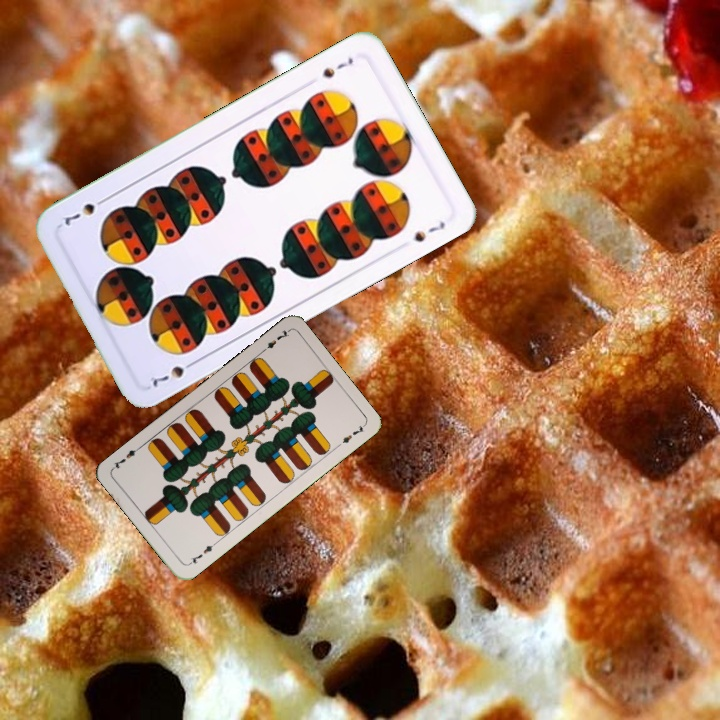E7: (184, 538, 219, 568), (257, 326, 292, 356)
S7: (145, 356, 200, 390), (317, 53, 356, 81)
